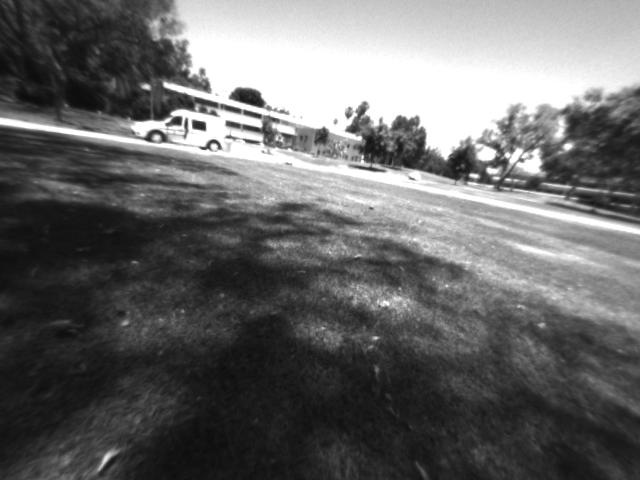dogtoy: (360, 198, 381, 213)
